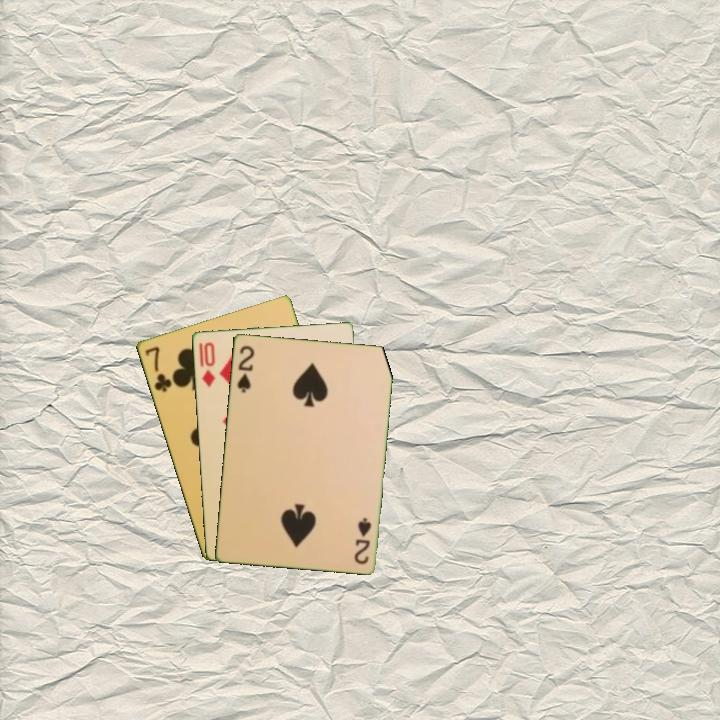10d: (198, 338, 218, 390)
2s: (233, 342, 257, 395), (351, 514, 374, 567)
7c: (141, 343, 174, 395)
